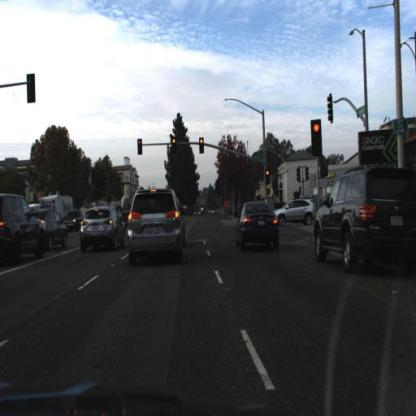car: (314, 163, 416, 274), (126, 189, 186, 262), (1, 194, 48, 261), (237, 200, 281, 251), (80, 207, 126, 252), (275, 192, 317, 233), (33, 207, 69, 249), (275, 197, 318, 228)
trafficLight: (138, 139, 143, 155)
trafficLight-Red: (312, 119, 324, 155), (265, 167, 272, 187), (172, 137, 177, 153), (200, 139, 205, 155), (266, 170, 271, 184)
truck: (38, 195, 74, 221)
